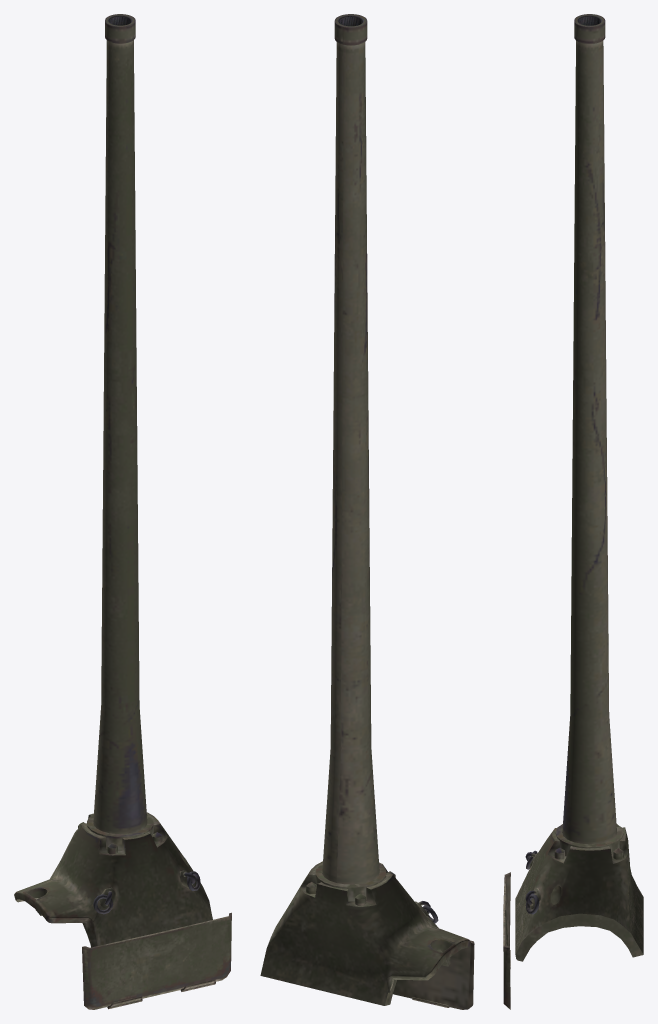
Rendered from Gun_01.glb.
3 renders of one model, left to right at view 1: azimuth 30°, elevation 25°; view 2: azimuth 150°, elevation 25°; view 3: azimuth 270°, elevation 25°, orthographic. The views are drawn at different scales.
Visible parts, largest first — view 1: set_0_group_0, set_0_group_1; view 2: set_0_group_0, set_0_group_1; view 3: set_0_group_0, set_0_group_1.
Boxes of the visible parts, box(x1,y1,x2,y2) form: set_0_group_0: box(14, 14, 212, 947); set_0_group_1: box(82, 912, 231, 1009); set_0_group_0: box(260, 14, 470, 1005); set_0_group_1: box(393, 940, 474, 1009); set_0_group_0: box(515, 14, 643, 961); set_0_group_1: box(503, 872, 510, 1009).
Bounding box in the file's own units: 0.8561 × 4.71 × 0.625.
2 materials, 2 textured.
